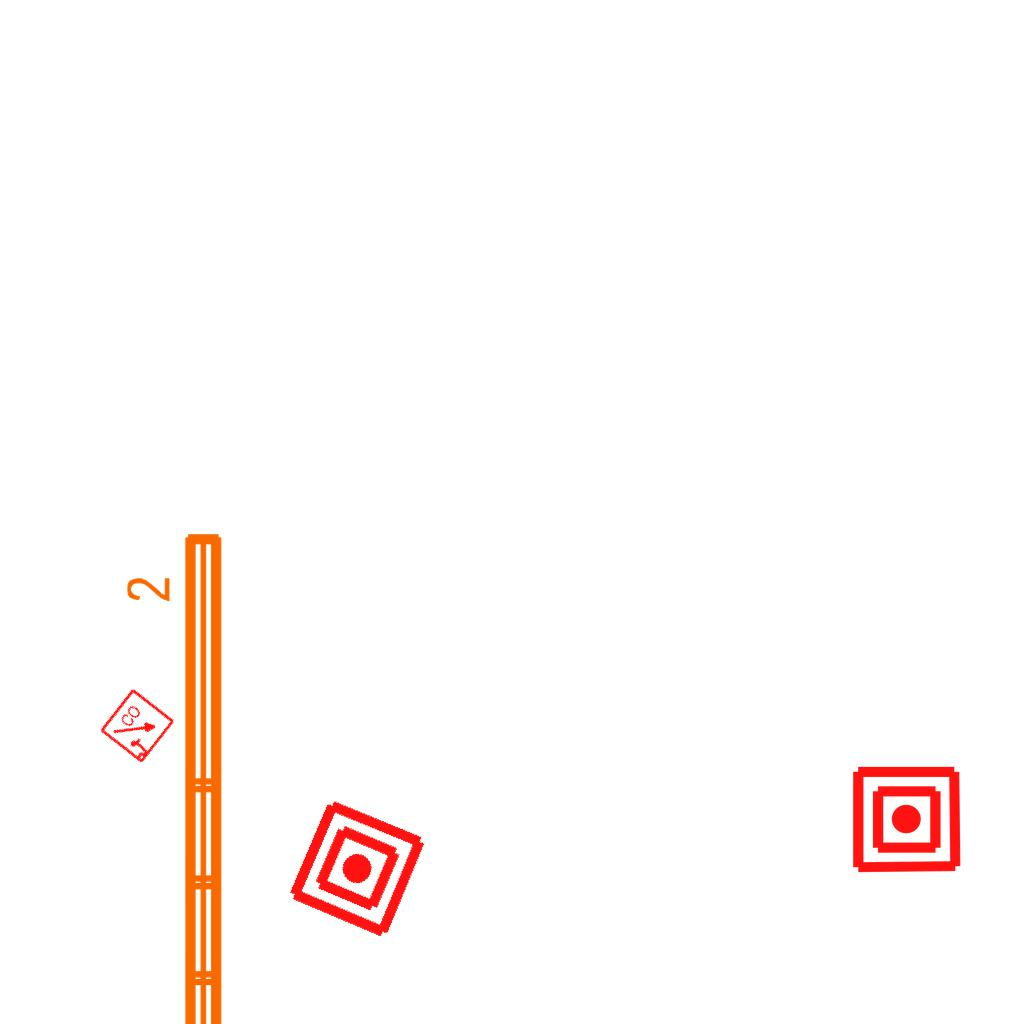Ambulanz_Pendelleuchte_LED: (122, 525, 234, 1024)
NAM-Nichtautomatischer_Melder: (283, 794, 432, 943), (850, 763, 963, 876)
ROA_Rauchmelder_optisch_mit_Signalgeber_(Sockelsirene): (98, 686, 178, 766)
